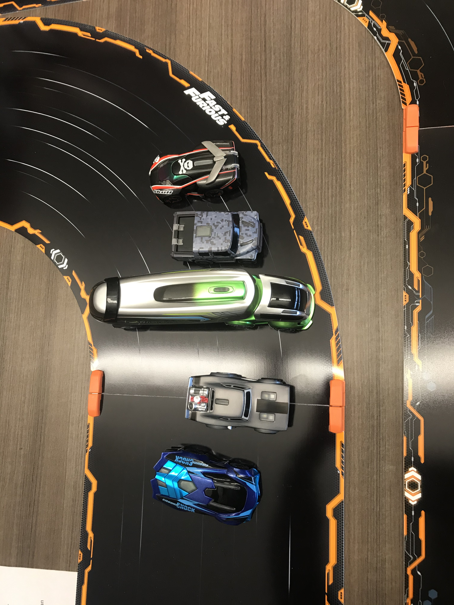Charger: (183, 370, 298, 436)
Freewheel: (89, 265, 318, 335)
MXT: (167, 208, 266, 263)
Shock: (153, 443, 263, 522)
Skull: (145, 138, 242, 198)
